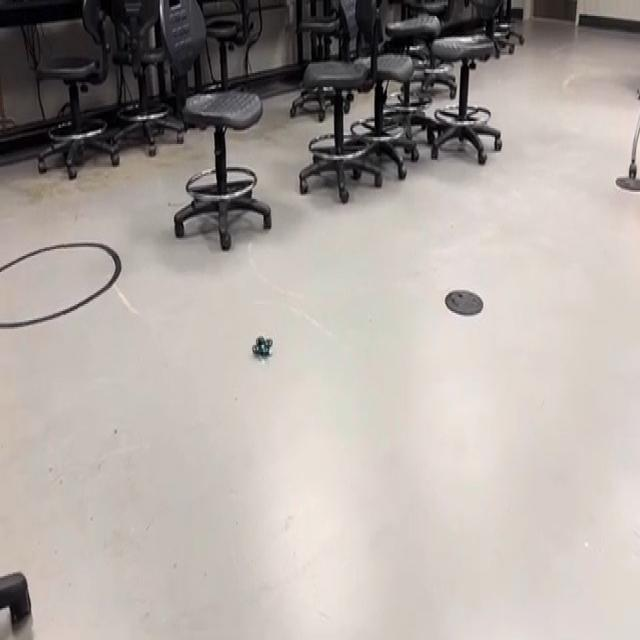drone: (248, 324, 276, 367)
